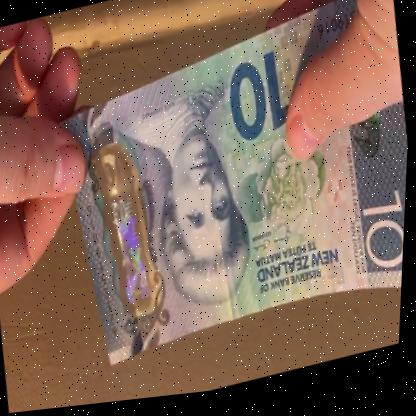10B: (94, 151, 162, 318)
